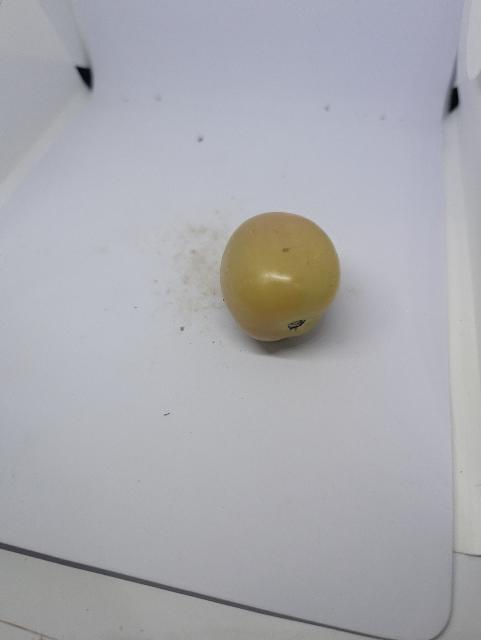breaker: (215, 210, 353, 348)
